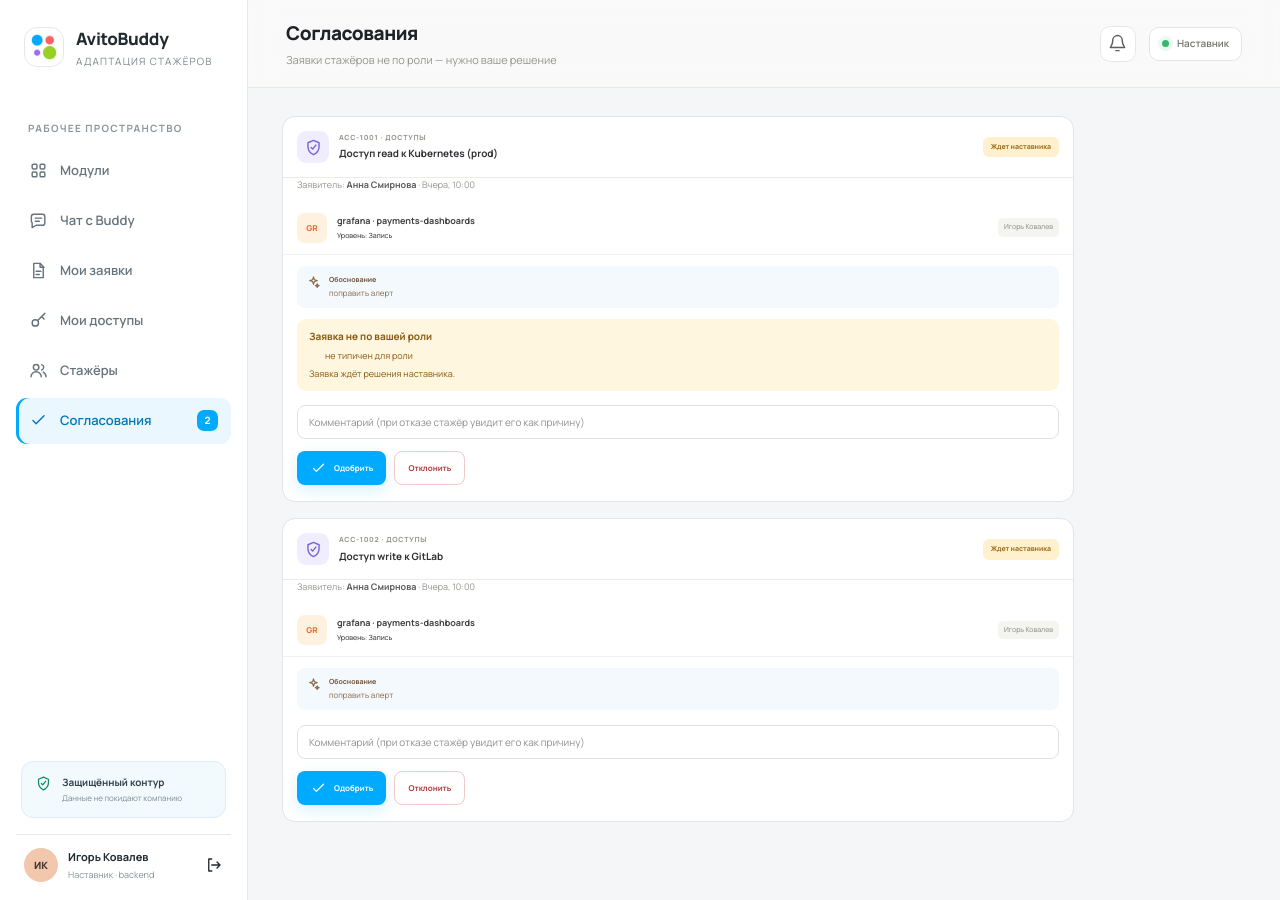
наставник › согласования: отклонить с причиной и одобрить
This screenshot has width=1280, height=900.
Type "Логи смотри в Grafana" into the field with placeholder "Комментарий (при отказе стажёр увидит его как причину)" below "Заявка ждёт решения наставника." at (678, 422), box top-left (297, 405), bottom-right (1059, 439)
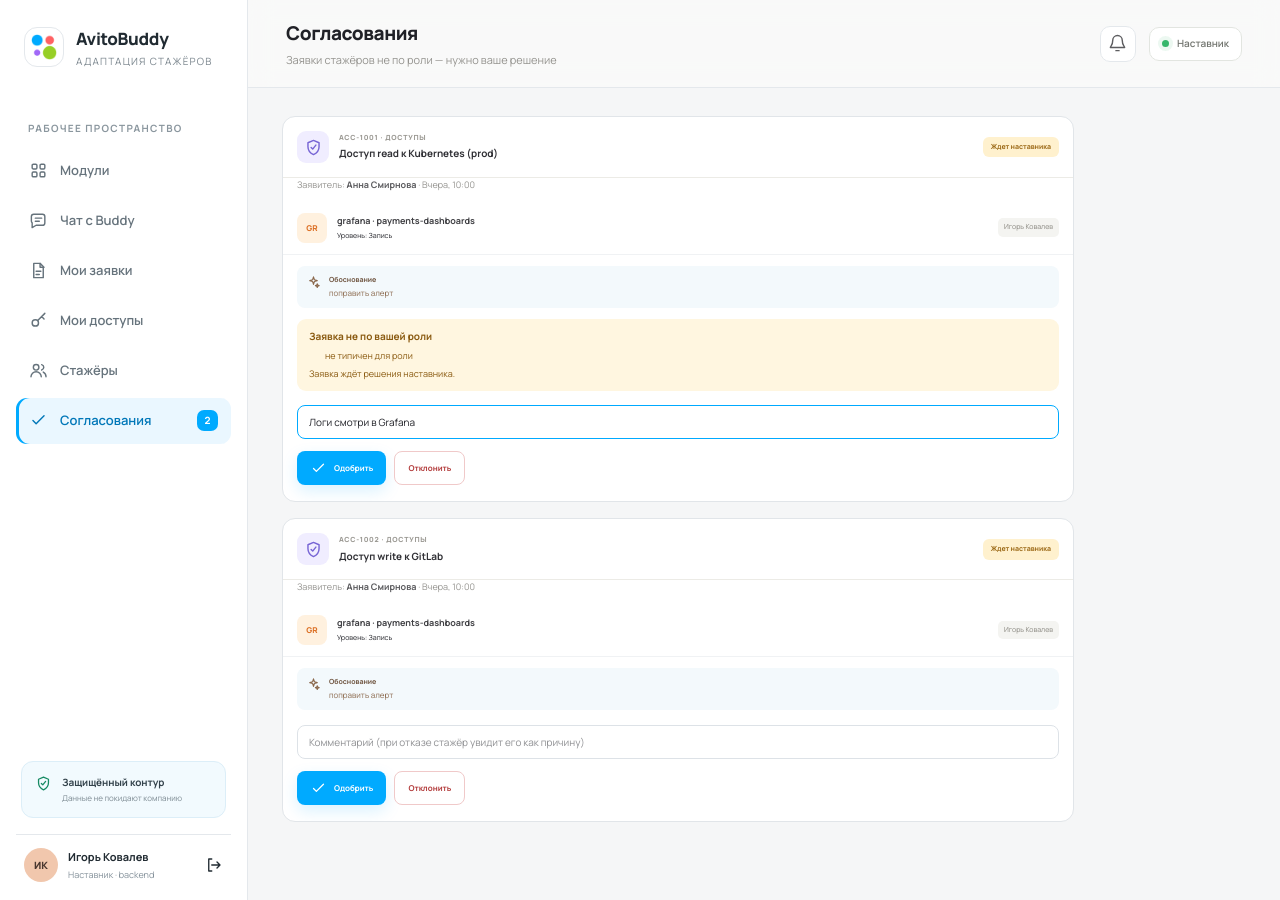
Click the button "Отклонить" below "Заявка ждёт решения наставника." at (430, 468), box top-left (394, 451), bottom-right (465, 485)
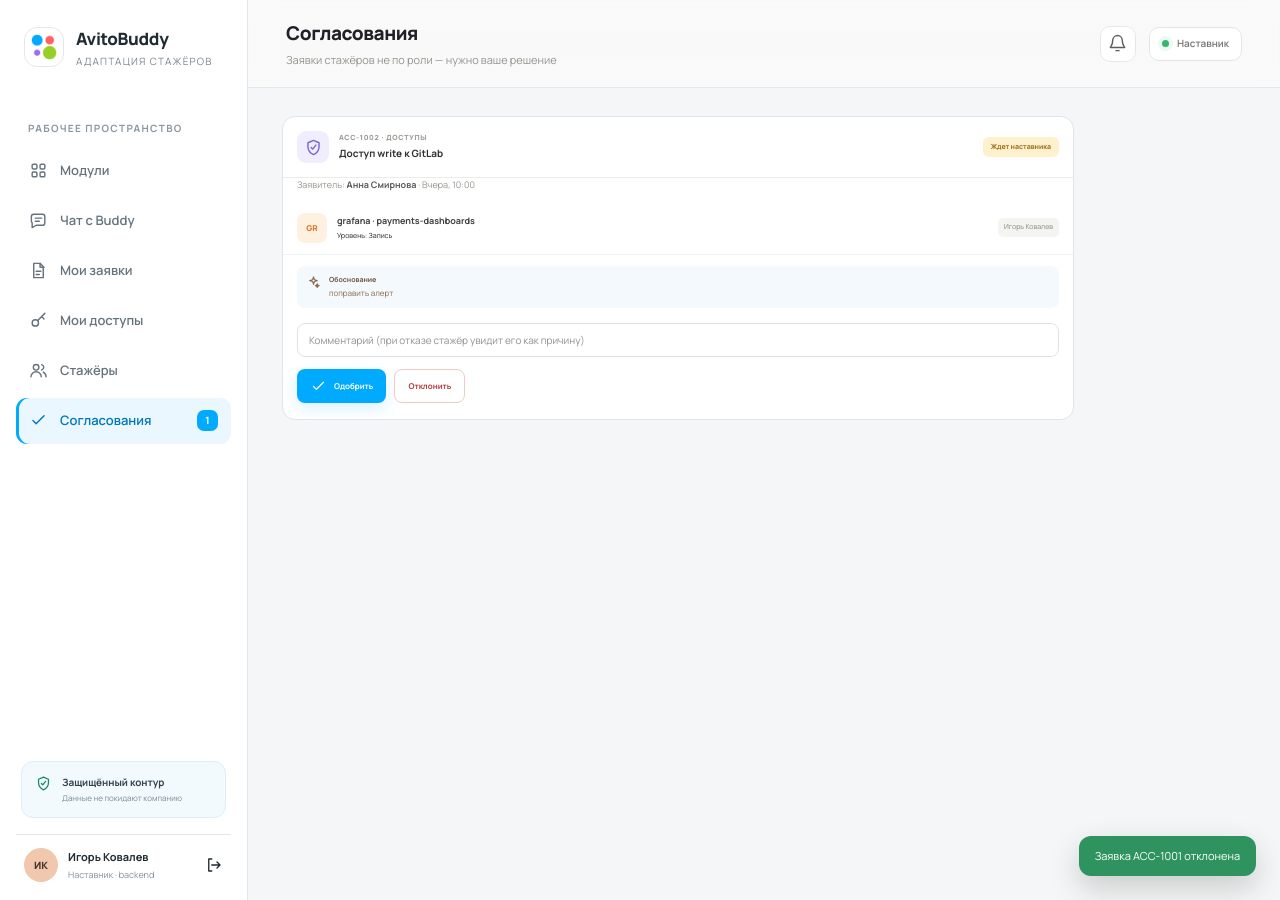
Now the text "Заявка ACC-1001 отклонена" is shown, box top-left (1079, 836), bottom-right (1256, 876)
Click the button "Одобрить" at (342, 386), box top-left (297, 369), bottom-right (386, 403)
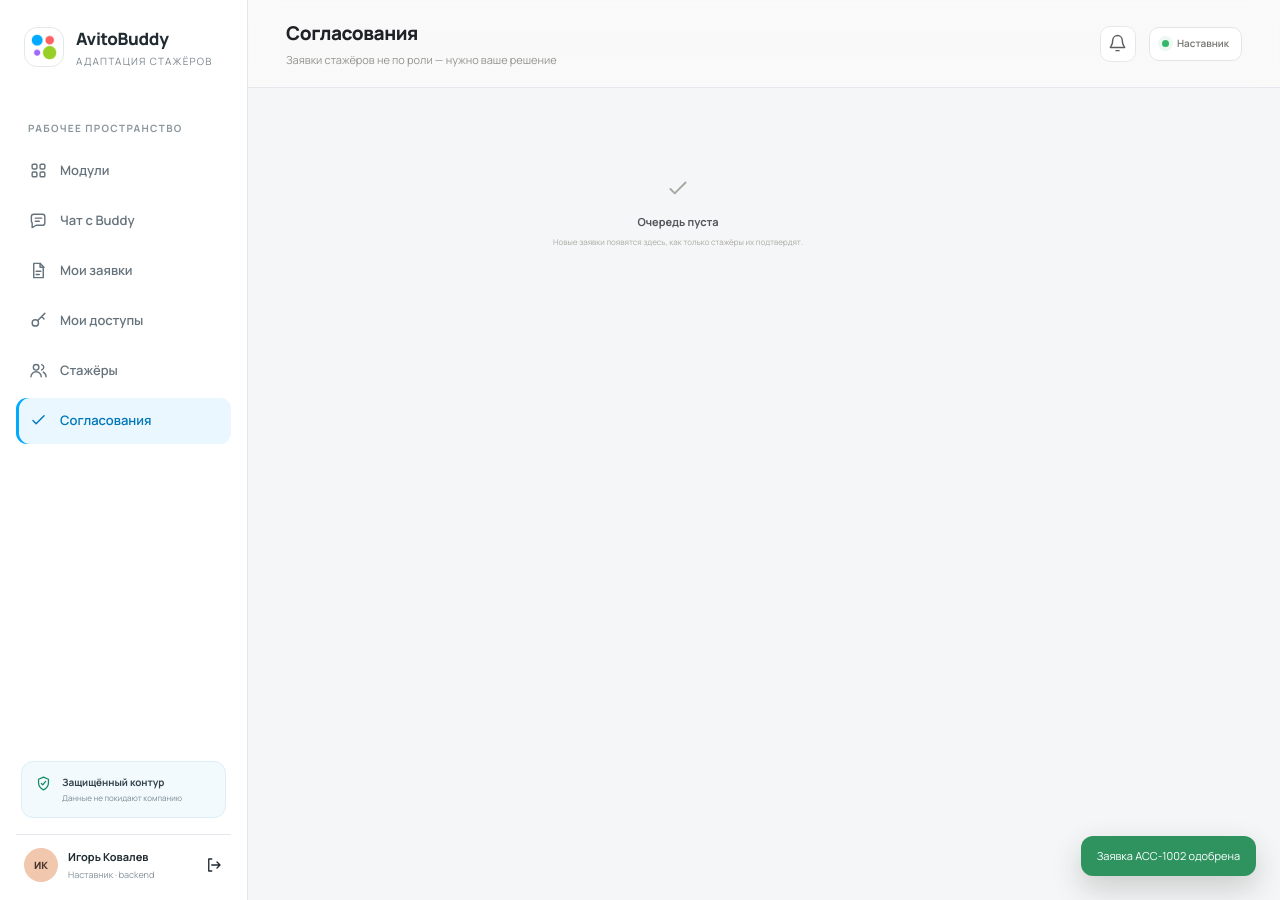
Now the text "Очередь пуста" is shown, box top-left (638, 214), bottom-right (718, 230)
